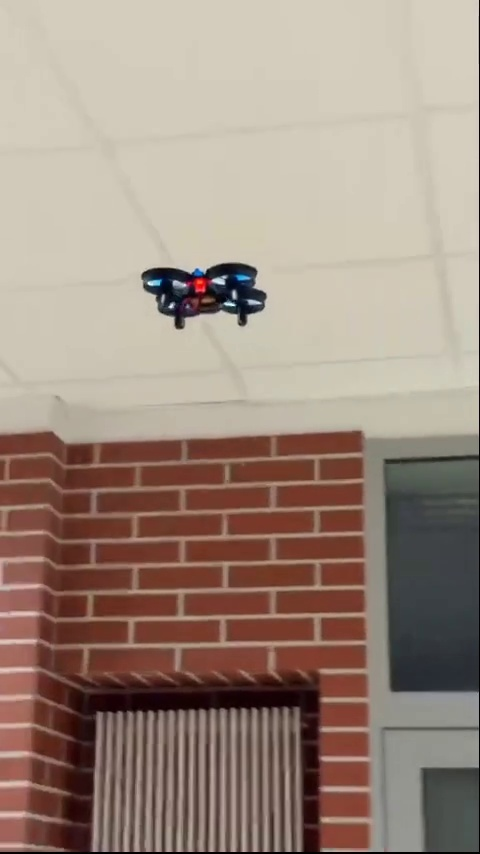drone: (140, 262, 277, 327)
